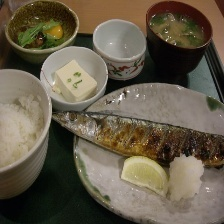rice: (1, 91, 46, 170)
